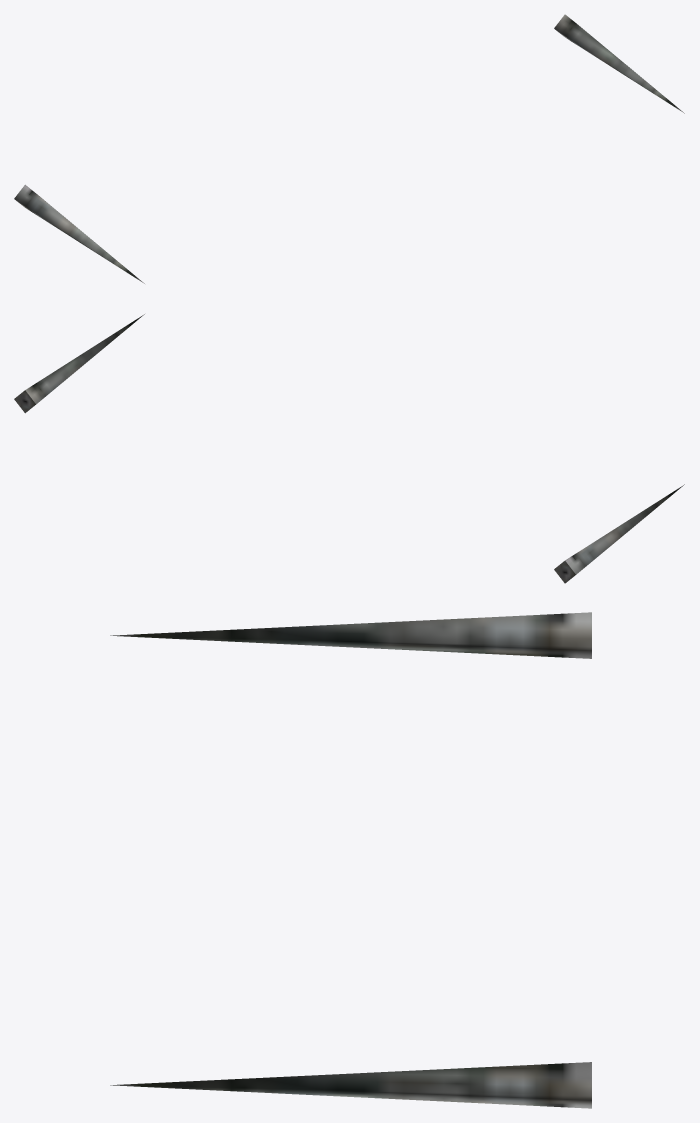
The model's file is xwing_weapon1_neg_s01_l3.fbx.
The picture shows the model from 3 angles, top to bottom: view 1: azimuth 30°, elevation 25°; view 2: azimuth 150°, elevation 25°; view 3: azimuth 270°, elevation 25°; orthographic projection. The views are drawn at different scales.
Visible parts, largest first — view 1: mesh_node; view 2: mesh_node; view 3: mesh_node.
Boxes of the visible parts, x1=… form: mesh_node: x1=14, y1=14, x2=684, y2=283; mesh_node: x1=14, y1=314, x2=684, y2=583; mesh_node: x1=110, y1=612, x2=591, y2=1108.
Size of the model in its own units: 12.94 by 1.36 by 4.83.
Materials: 1 (1 with a texture image).
